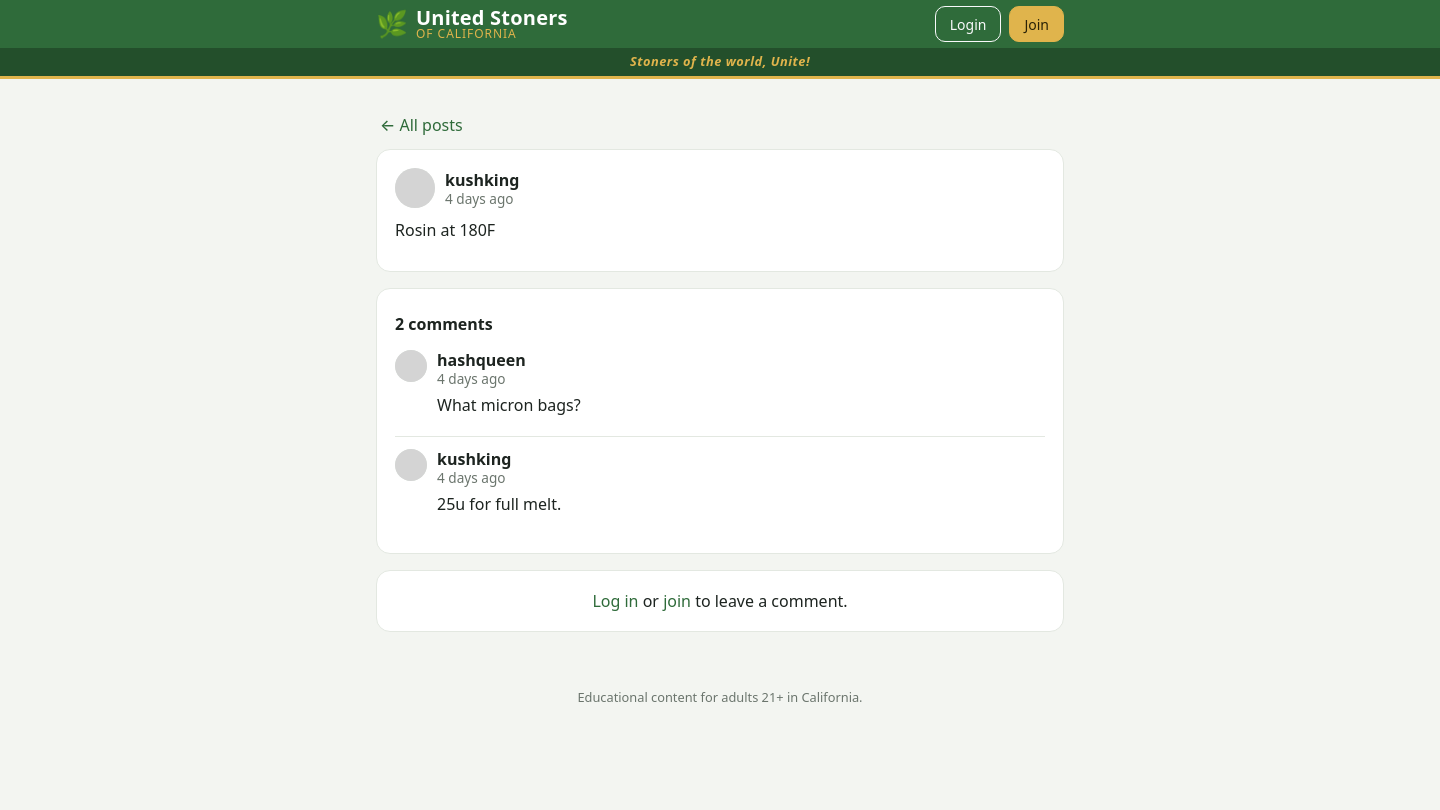
Test case: reading (no login needed) › logging in from a post returns to that post with the comment box
Click the link "Log in" at x=615, y=601, box 592,590 -> 638,612
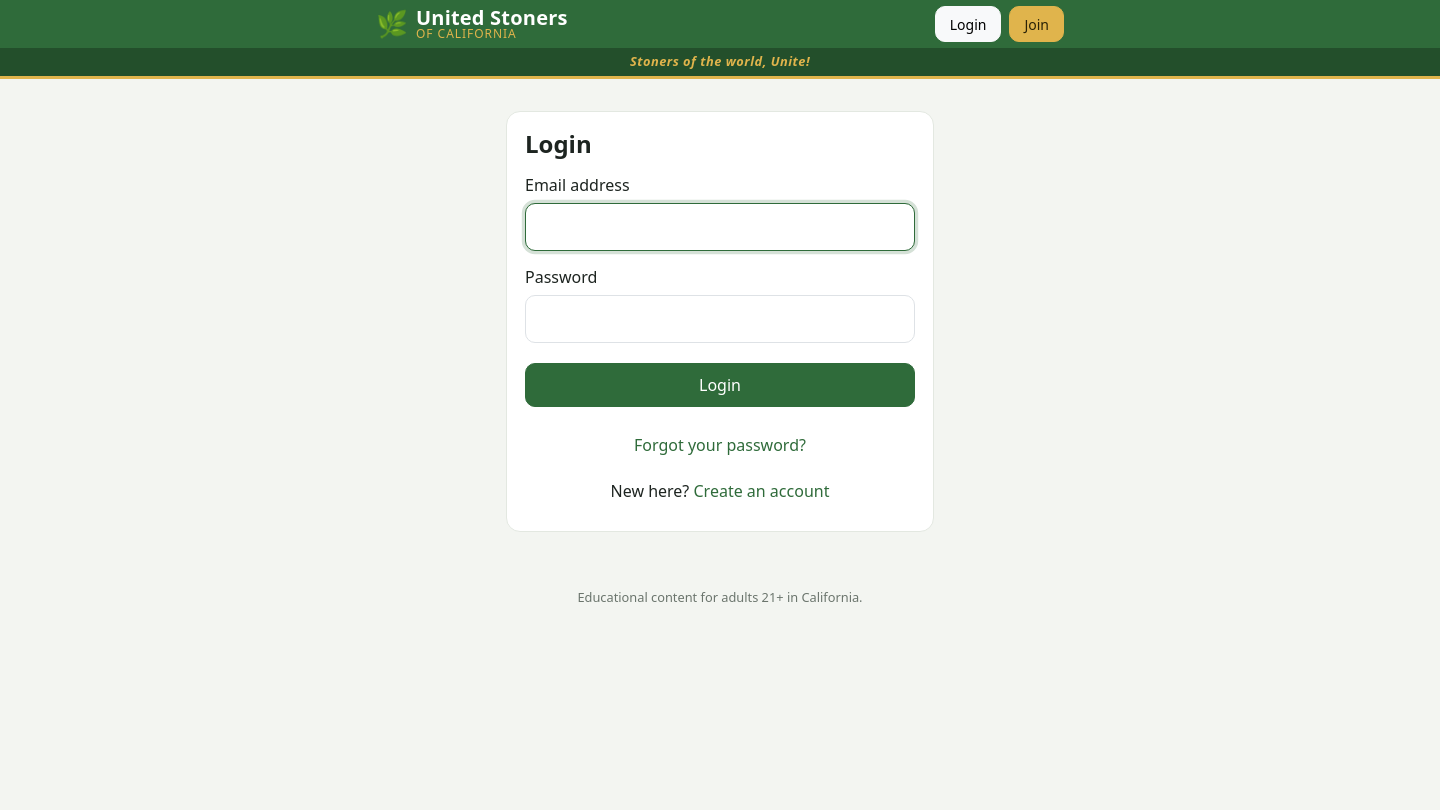
Type "hashqueen@example.com" into the field labelled "Email address" at x=720, y=227, box 525,203 -> 915,251
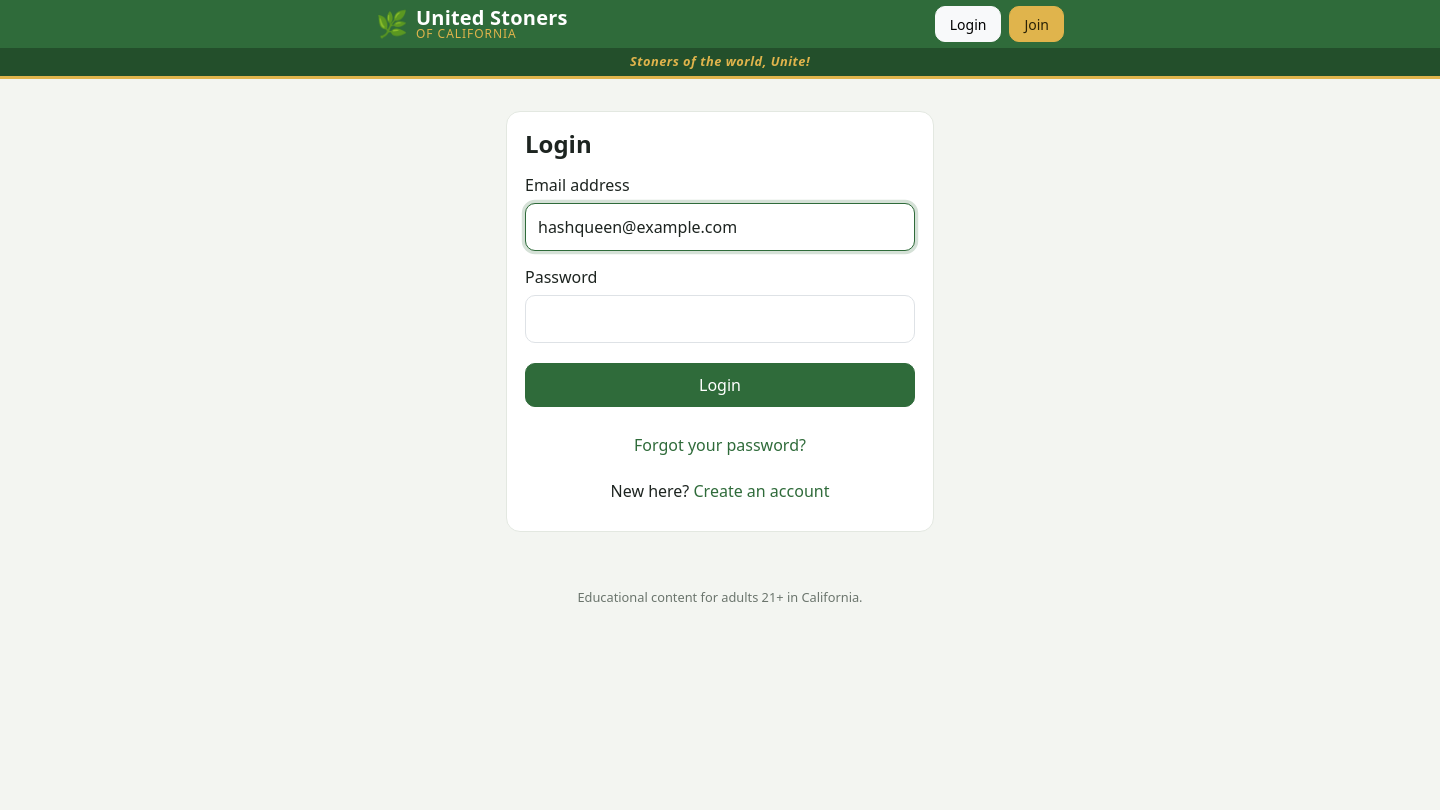
Type "password123" into the password field labelled "Password" at x=720, y=319, box 525,295 -> 915,343
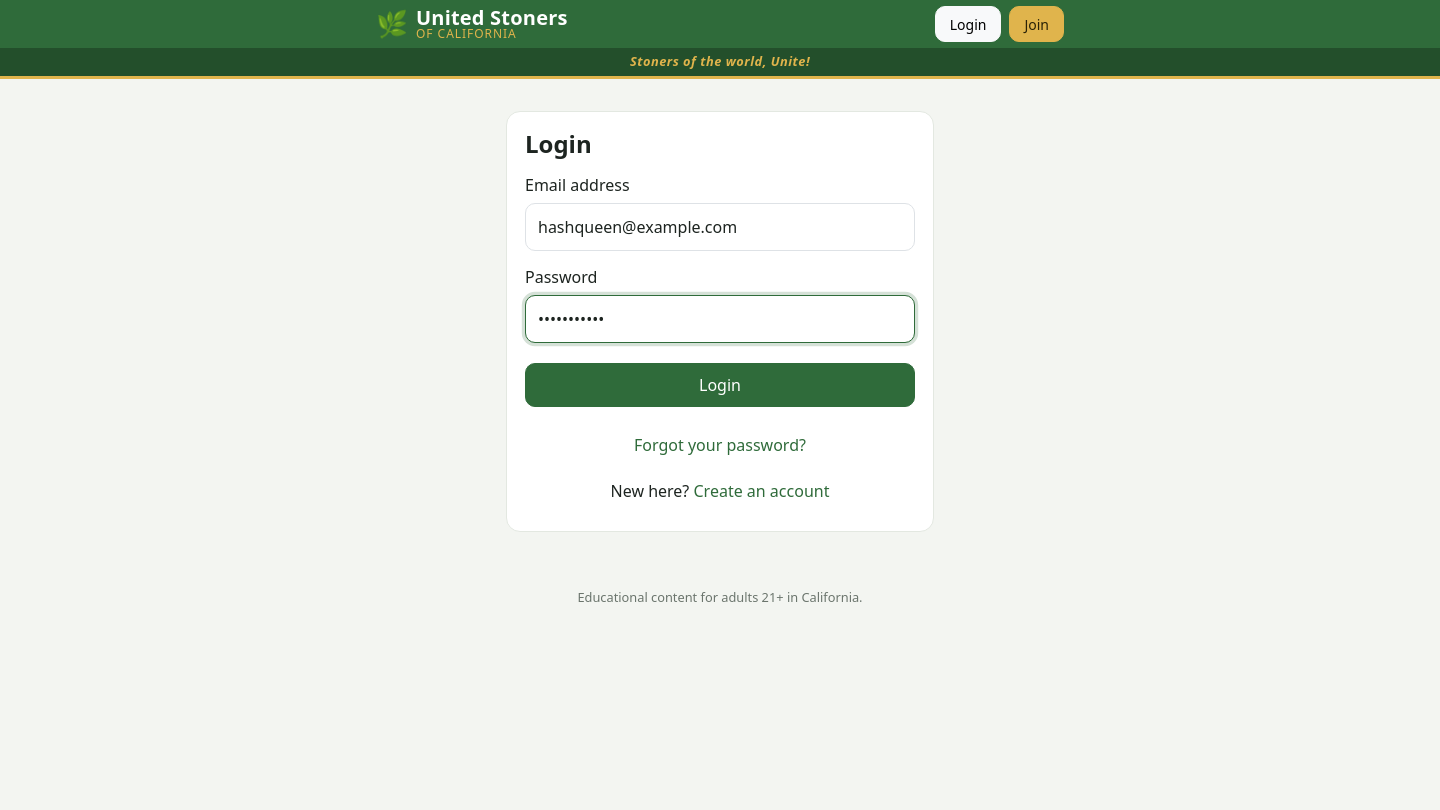
Click the button "Login" at x=720, y=385, box 525,363 -> 915,407
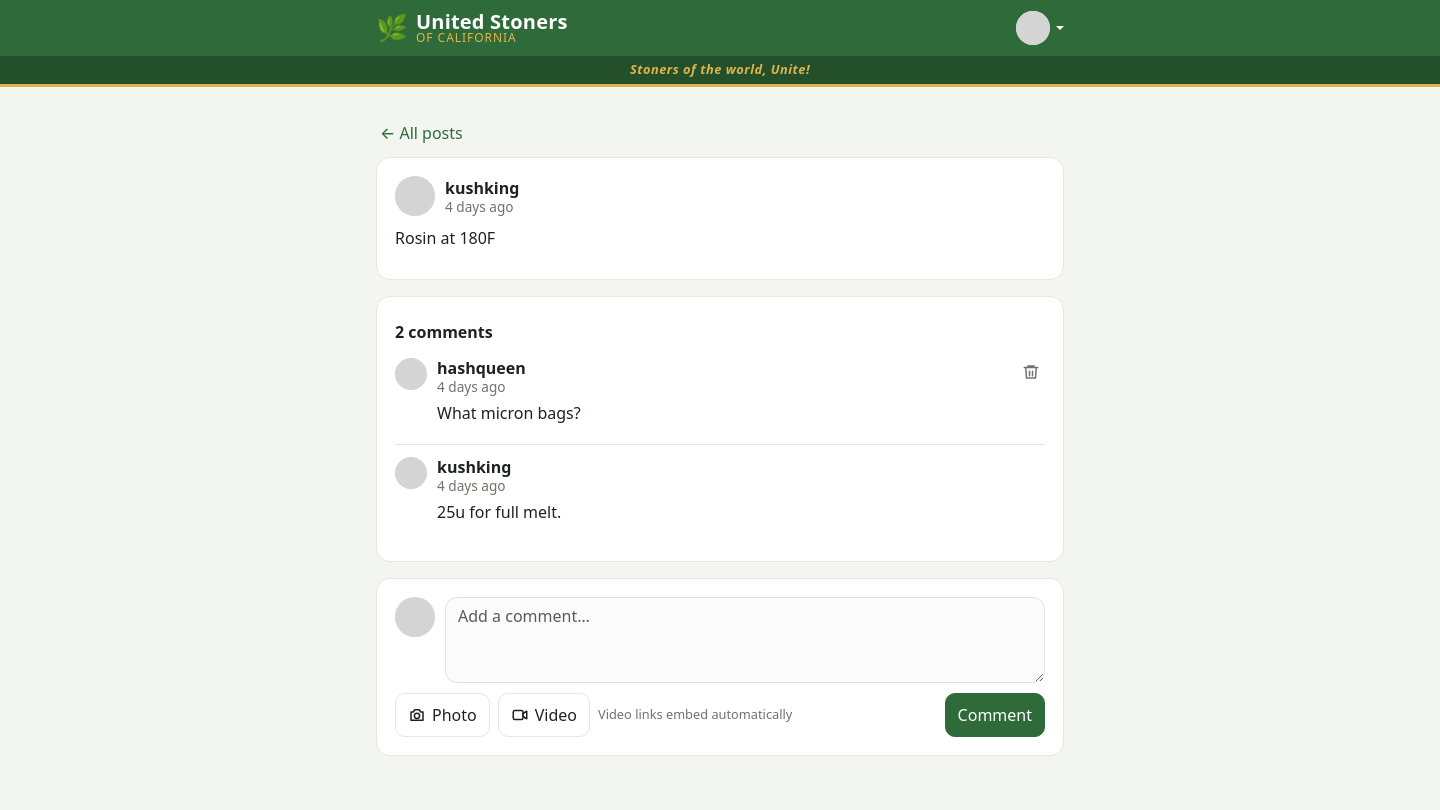
expect the button "Comment" is shown: met, box 945,693 -> 1045,737
